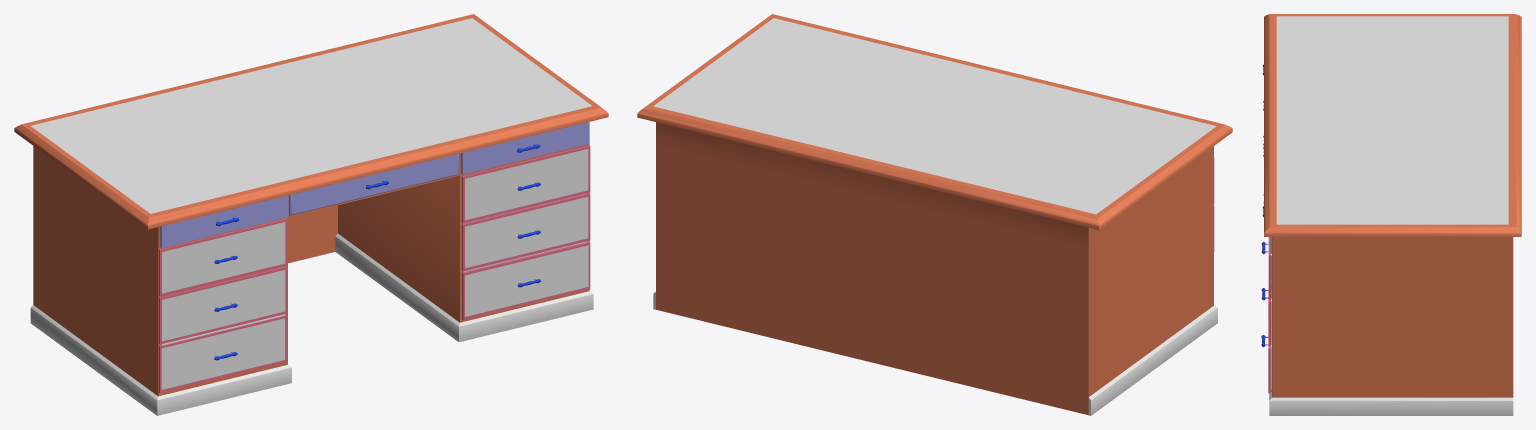
Rendered from Furniture_OfficeDesk.fbx.
The picture shows the model from 3 angles, left to right: view 1: azimuth 30°, elevation 25°; view 2: azimuth 150°, elevation 25°; view 3: azimuth 270°, elevation 25°; orthographic projection. The views are drawn at different scales.
Visible parts, largest first — view 1: Desk Main, Desk Main.001, main drawer, main drawer.001, main drawer.002, main drawer.005, main drawer.004, main drawer.003, Long drawer, Short drawer.001, Short drawer; view 2: Desk Main, Desk Main.001; view 3: Desk Main, Desk Main.001, main drawer, main drawer.002.
Boxes of the visible parts, bbox=[...] form: Desk Main: bbox=[14, 14, 608, 396]; Desk Main.001: bbox=[30, 233, 593, 415]; main drawer: bbox=[462, 145, 590, 223]; main drawer.001: bbox=[462, 193, 590, 271]; main drawer.002: bbox=[462, 242, 590, 319]; main drawer.005: bbox=[159, 218, 286, 296]; main drawer.004: bbox=[159, 266, 286, 344]; main drawer.003: bbox=[159, 315, 286, 392]; Long drawer: bbox=[289, 154, 458, 215]; Short drawer.001: bbox=[160, 195, 288, 247]; Short drawer: bbox=[461, 122, 589, 174]; Desk Main: bbox=[637, 14, 1232, 415]; Desk Main.001: bbox=[653, 292, 1217, 415]; Desk Main: bbox=[1264, 14, 1521, 397]; Desk Main.001: bbox=[1269, 391, 1513, 415]; main drawer: bbox=[1261, 237, 1271, 300]; main drawer.002: bbox=[1261, 289, 1271, 393].
Bounding box in the file's own units: 184 × 76.28 × 93.27.
